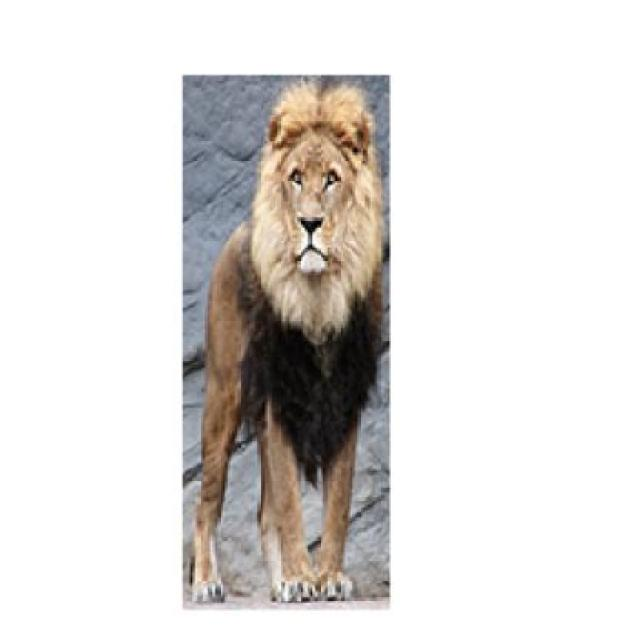Lion: (157, 63, 415, 639)
